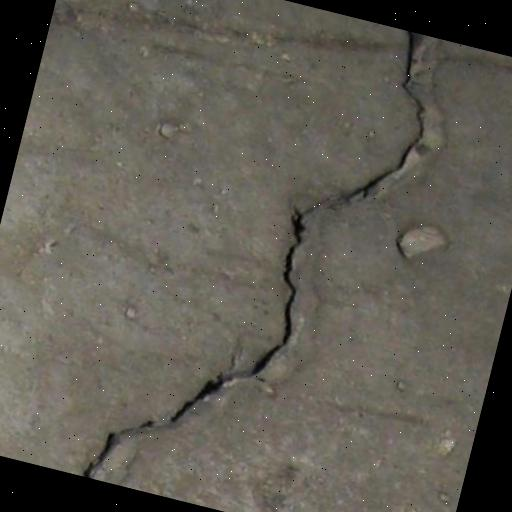spalling: (70, 29, 443, 481)
